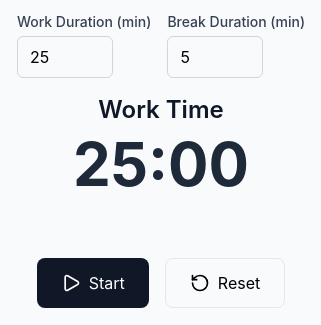
Test: PomodoroTimer › resets back to the configured work duration
The width and height of the screenshot is (321, 325).
Replace the text in the number field labelled "Work Duration (min)" with "3": (65, 57) [17,36,113,78]
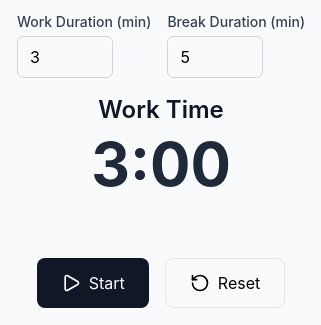
Click the button "Start": (93, 283) [37,258,149,308]
Wait 5000 ms
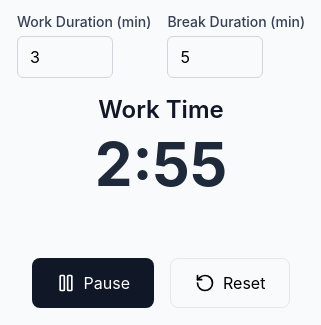
Click the button "Reset": (230, 283) [170,258,290,308]
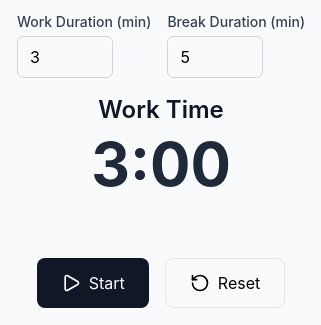
Expected: the heading "Work Time" is shown, [91,94,231,126]
Result: the text "3:00" is shown at [91,134,231,194]
Result: the button "Start" is shown at [37,258,149,308]
